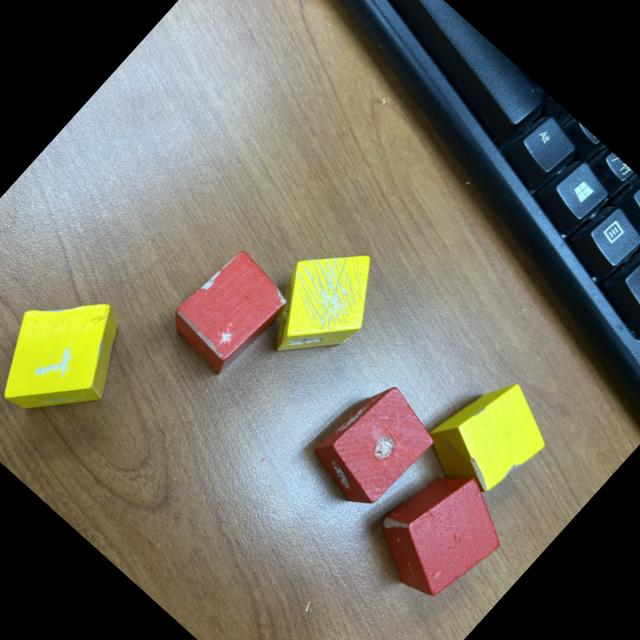broken: (0, 264, 153, 450), (359, 449, 523, 615), (242, 222, 399, 384), (414, 359, 564, 512), (302, 373, 444, 518), (160, 242, 296, 381)
